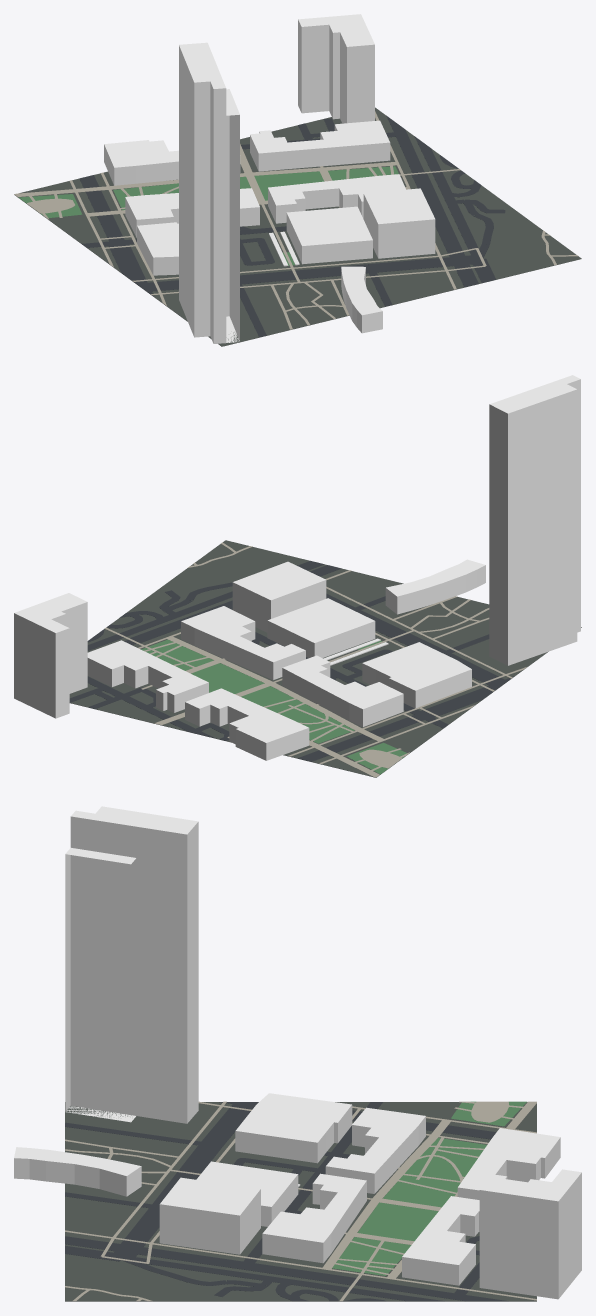
Rendered from tile_005_006.glb.
The picture shows the model from 3 angles, top to bottom: view 1: azimuth 30°, elevation 25°; view 2: azimuth 150°, elevation 25°; view 3: azimuth 270°, elevation 25°; orthographic projection. The views are drawn at different scales.
Parts seen in each view (by area): view 1: tile_005_006_buildings_neutral, tile_005_006_ground, tile_005_006_buildings_detailed_m23:lite_1070584575, tile_005_006_roads, tile_005_006_buildings_retail, tile_005_006_paths, tile_005_006_open_spaces; view 2: tile_005_006_buildings_neutral, tile_005_006_buildings_detailed_m23:lite_1070584575, tile_005_006_ground, tile_005_006_buildings_retail, tile_005_006_roads, tile_005_006_paths, tile_005_006_open_spaces; view 3: tile_005_006_buildings_detailed_m23:lite_1070584575, tile_005_006_buildings_neutral, tile_005_006_ground, tile_005_006_buildings_retail, tile_005_006_roads, tile_005_006_paths, tile_005_006_open_spaces.
Boxes of the visible parts, x1=… form: tile_005_006_buildings_neutral: x1=137, y1=14, x2=405, y2=333; tile_005_006_ground: x1=14, y1=107, x2=581, y2=346; tile_005_006_buildings_detailed_m23:lite_1070584575: x1=179, y1=42, x2=239, y2=343; tile_005_006_roads: x1=79, y1=115, x2=505, y2=337; tile_005_006_buildings_retail: x1=104, y1=140, x2=435, y2=258; tile_005_006_paths: x1=14, y1=111, x2=578, y2=329; tile_005_006_open_spaces: x1=18, y1=166, x2=398, y2=265; tile_005_006_buildings_neutral: x1=14, y1=559, x2=485, y2=718; tile_005_006_buildings_detailed_m23:lite_1070584575: x1=489, y1=375, x2=580, y2=665; tile_005_006_ground: x1=69, y1=540, x2=581, y2=777; tile_005_006_buildings_retail: x1=185, y1=561, x2=403, y2=760; tile_005_006_roads: x1=69, y1=561, x2=514, y2=761; tile_005_006_paths: x1=105, y1=542, x2=527, y2=777; tile_005_006_open_spaces: x1=141, y1=639, x2=406, y2=774; tile_005_006_buildings_detailed_m23:lite_1070584575: x1=65, y1=806, x2=198, y2=1123; tile_005_006_buildings_neutral: x1=14, y1=1093, x2=581, y2=1299; tile_005_006_ground: x1=65, y1=1102, x2=536, y2=1301; tile_005_006_buildings_retail: x1=159, y1=1107, x2=560, y2=1254; tile_005_006_roads: x1=65, y1=1102, x2=508, y2=1301; tile_005_006_paths: x1=65, y1=1101, x2=536, y2=1301; tile_005_006_open_spaces: x1=332, y1=1101, x2=526, y2=1275.
Size of the model in its own units: 258 by 169 by 301.
